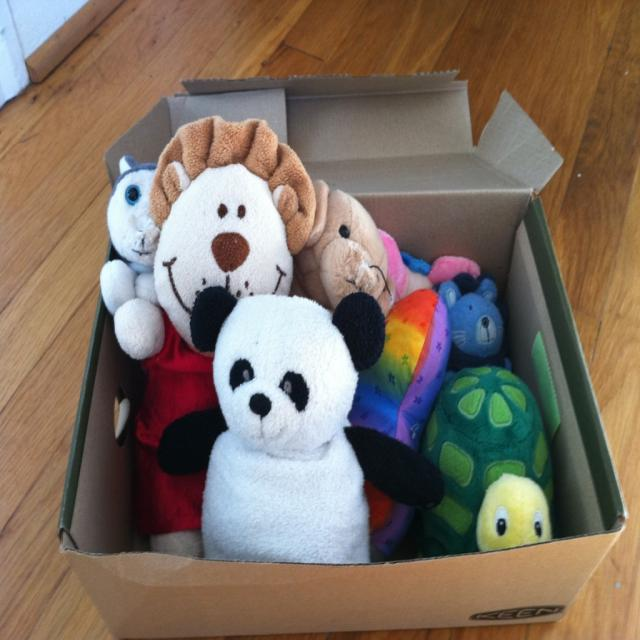panda: (156, 278, 444, 566)
